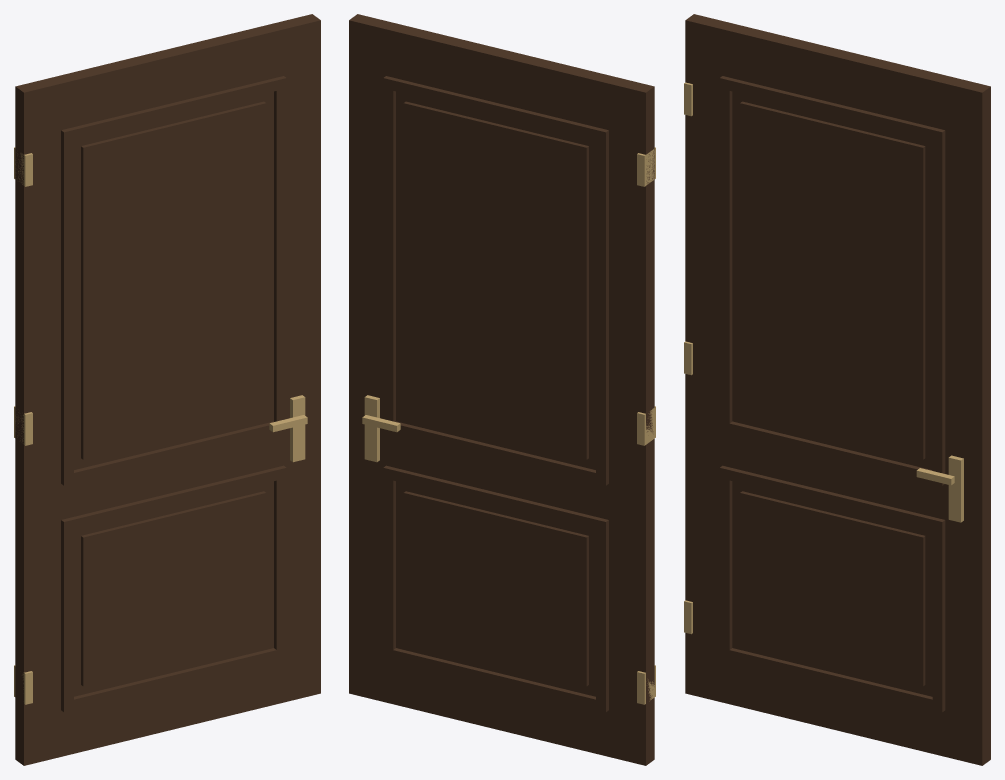
File: SM_Kapi_Oda.fbx
3 renders of one model, left to right at view 1: azimuth 30°, elevation 25°; view 2: azimuth 150°, elevation 25°; view 3: azimuth 330°, elevation 25°, orthographic.
Visible parts, largest first — view 1: Kapi_Oda; view 2: Kapi_Oda; view 3: Kapi_Oda.
Part boxes in pixels (box(x1,y1,x2,y2)): Kapi_Oda: box(14, 14, 320, 765); Kapi_Oda: box(349, 14, 655, 765); Kapi_Oda: box(684, 14, 990, 765).
Bounding box in the file's own units: 120 × 260 × 18.5.
